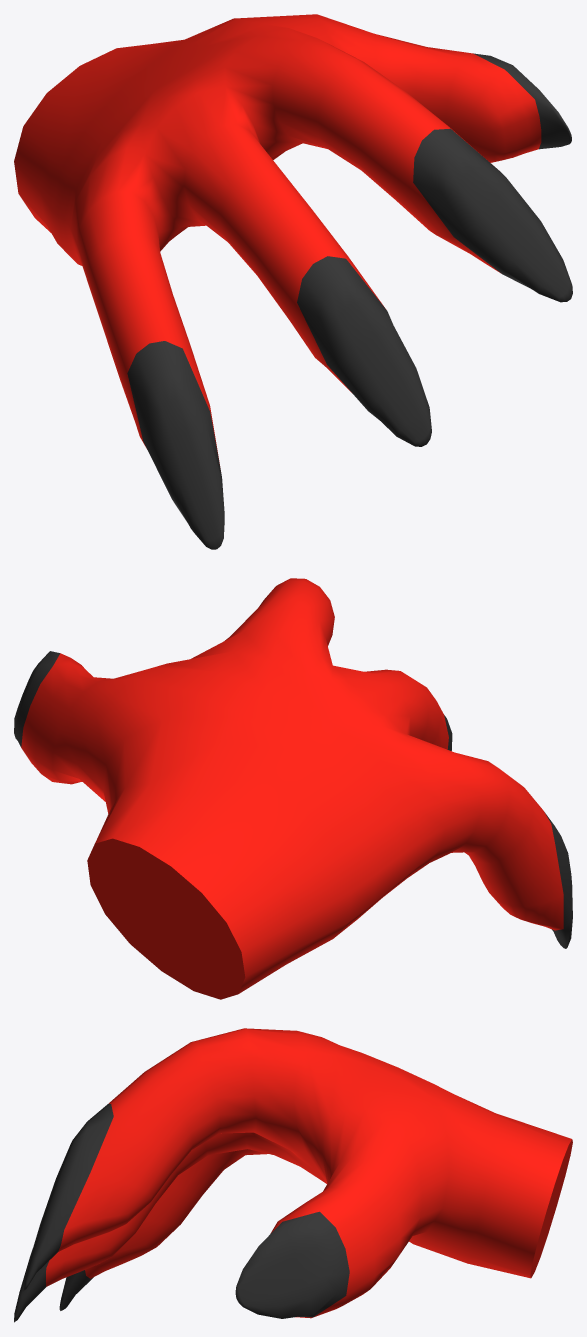
Rendered from monster_claw.fbx.
3 renders of one model, top to bottom at view 1: azimuth 30°, elevation 25°; view 2: azimuth 150°, elevation 25°; view 3: azimuth 270°, elevation 25°, orthographic. The views are drawn at different scales.
Parts seen in each view (by area): view 1: monster_claw; view 2: monster_claw; view 3: monster_claw.
Boxes of the visible parts, x1,y1,x2,y2 form: monster_claw: (14,14,572,549); monster_claw: (14,578,572,999); monster_claw: (14,1028,572,1322).
Bounding box in the file's own units: 4.72 × 3.59 × 4.97.
1 material, 1 textured.
